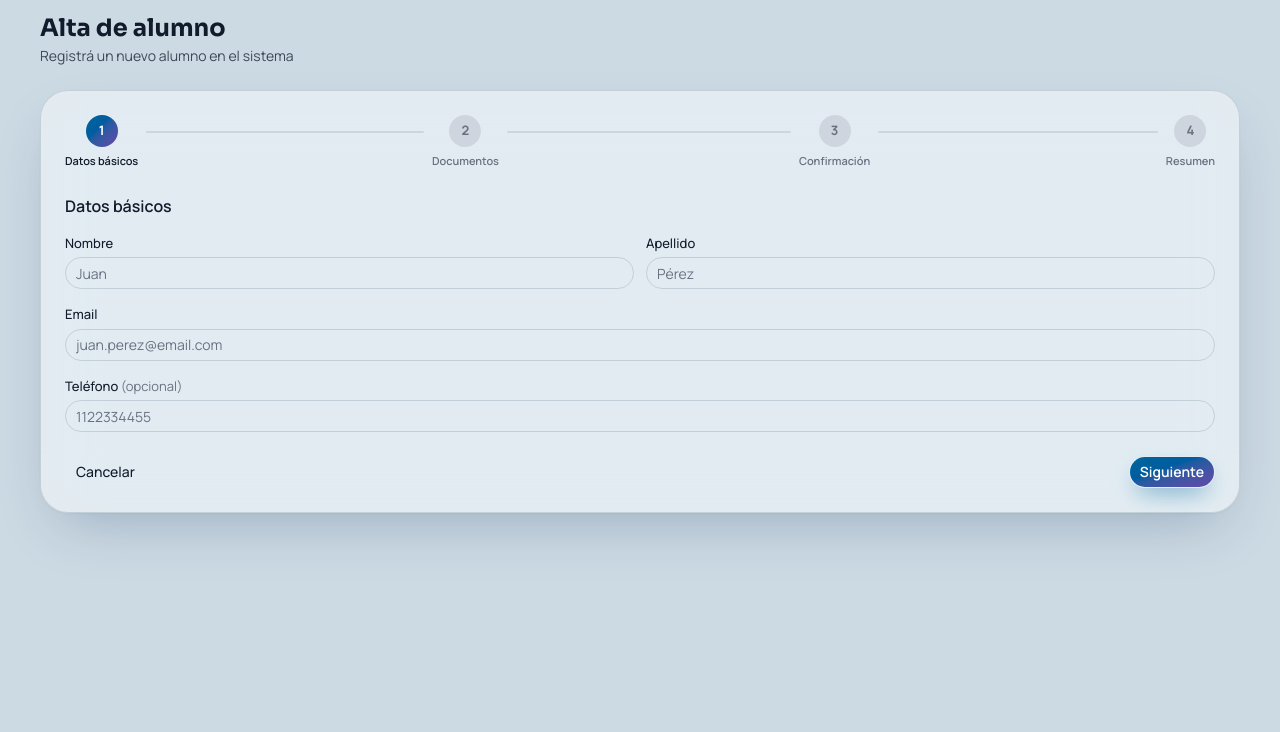
Test: NuevoAlumno › going back to the basic data and forward again does not create a second prospect
This screenshot has width=1280, height=732.
Type "Mostrador" into the field with placeholder "Juan".
click(350, 273); type("Mostrador")  # box [65,257,634,289]
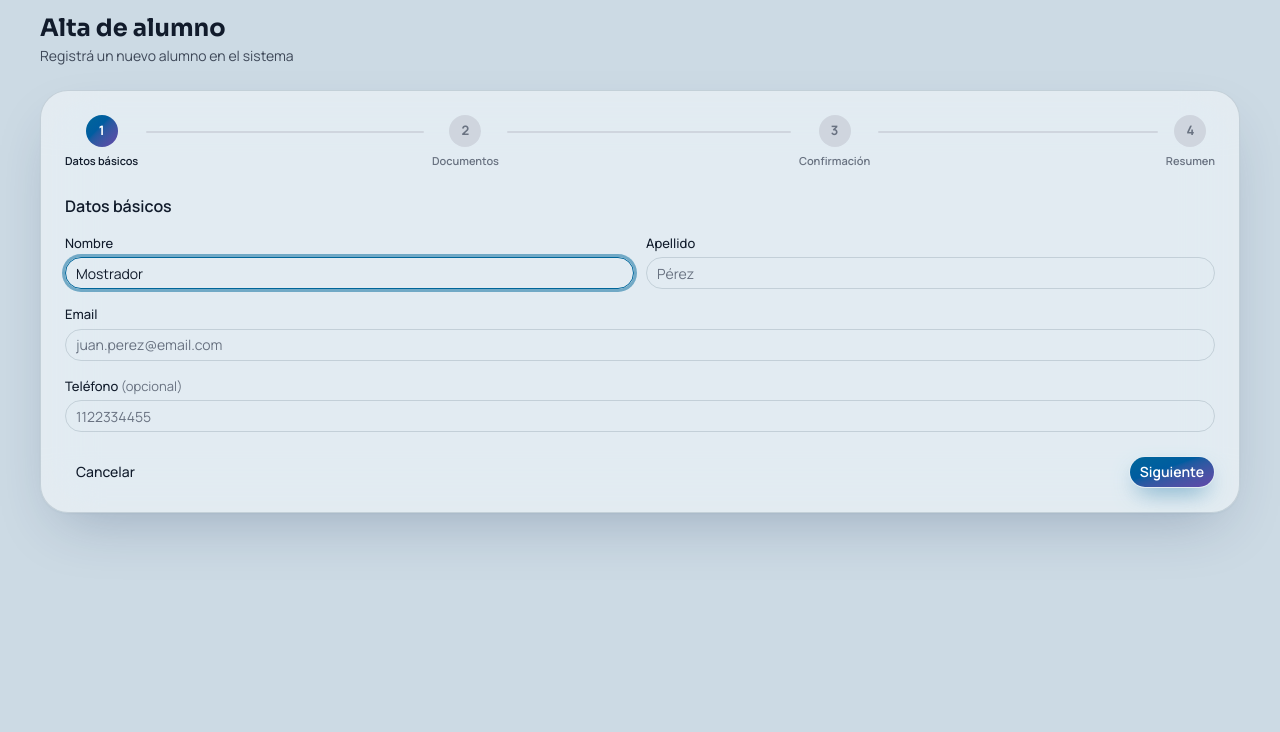
Type "Nueve" into the field with placeholder "Pérez".
click(930, 273); type("Nueve")  # box [646,257,1215,289]
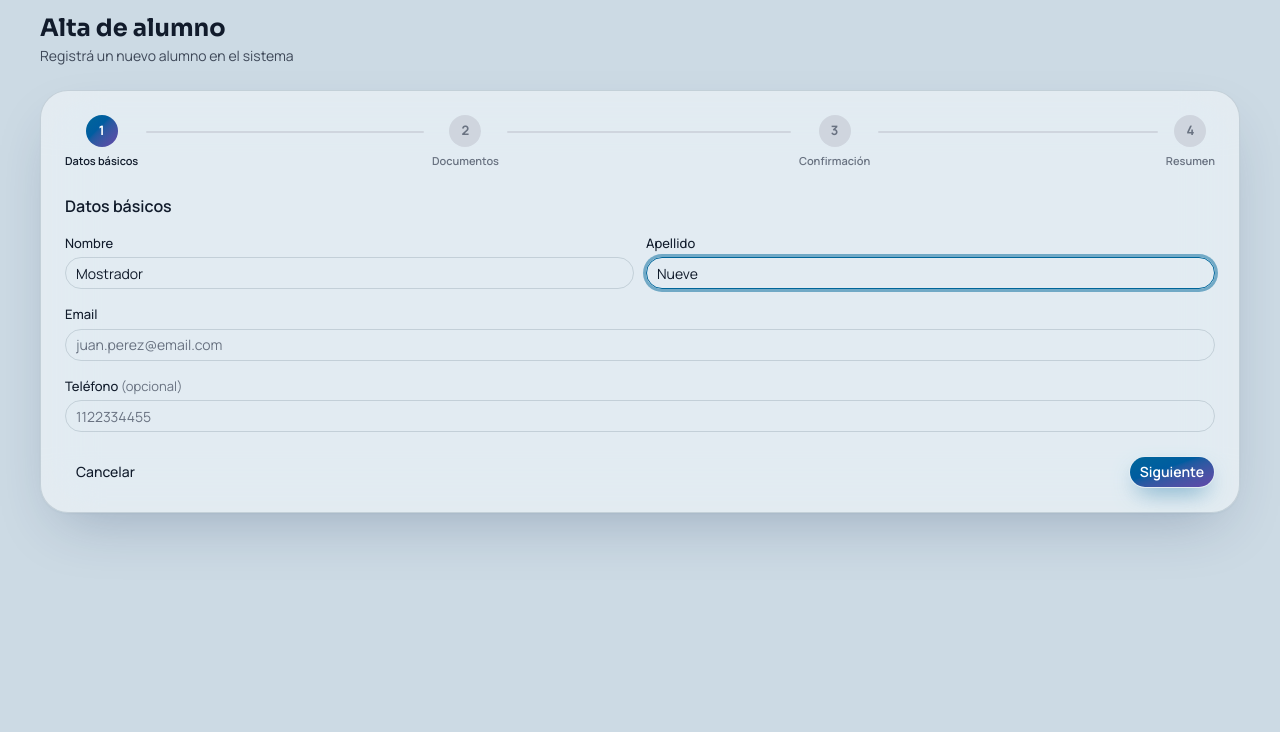
Type "qa9@demo.test" into the field with placeholder "juan.perez@email.com".
click(640, 344); type("qa9@demo.test")  # box [65,328,1215,360]
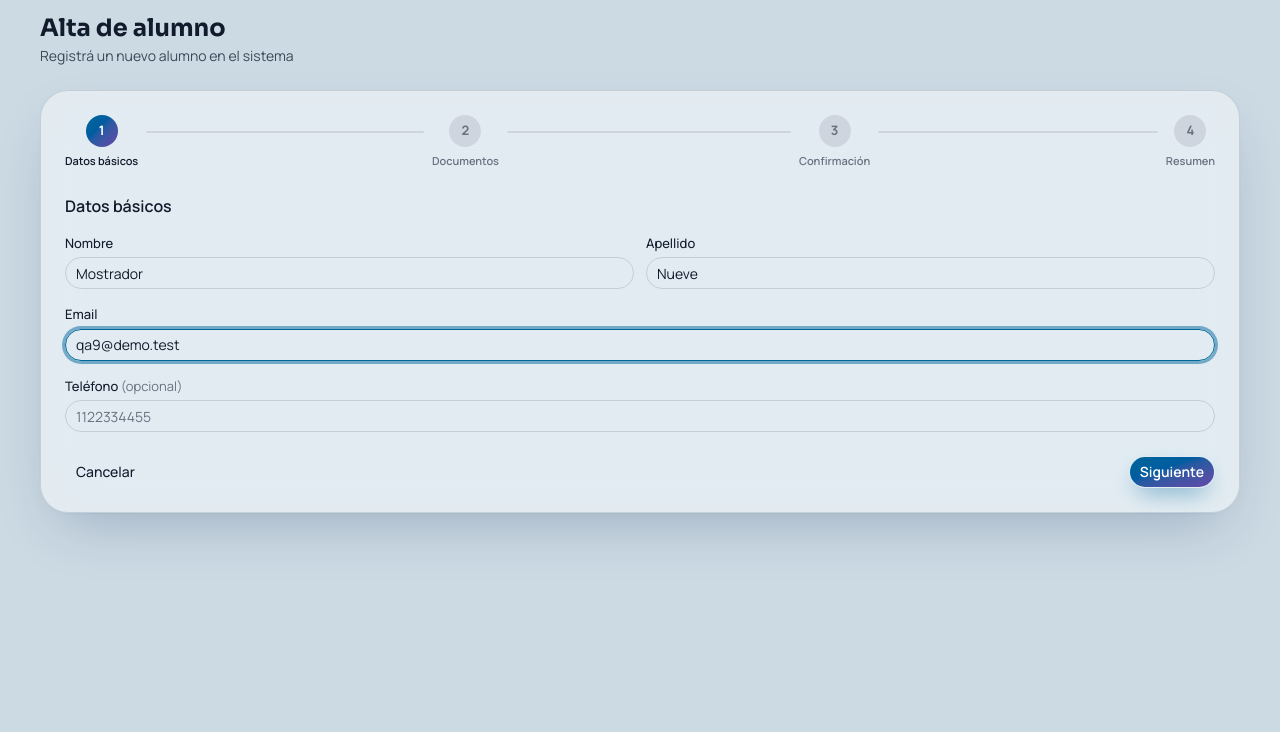
Click the button "Siguiente".
click(1172, 472)  # box [1129,456,1215,488]
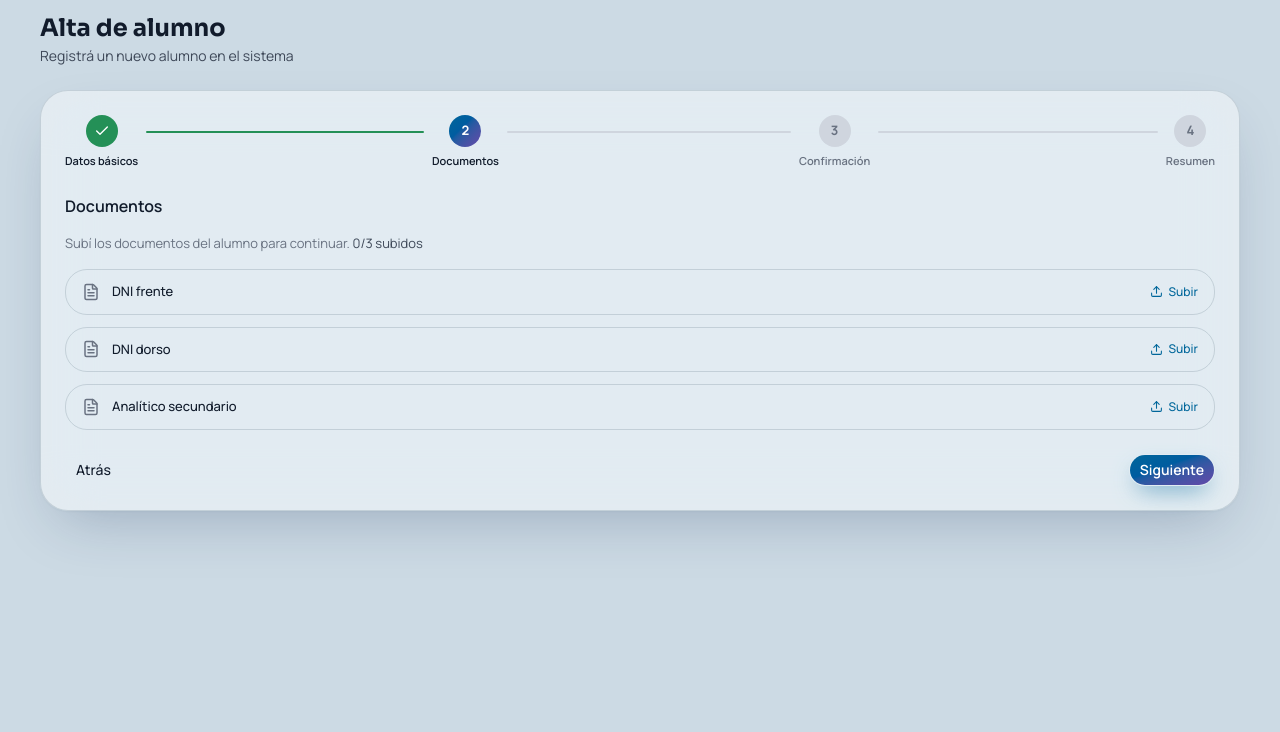
Now the heading "Documentos" is shown, box [65,194,162,216]
Click the button "Atrás".
click(93, 470)  # box [65,454,122,486]
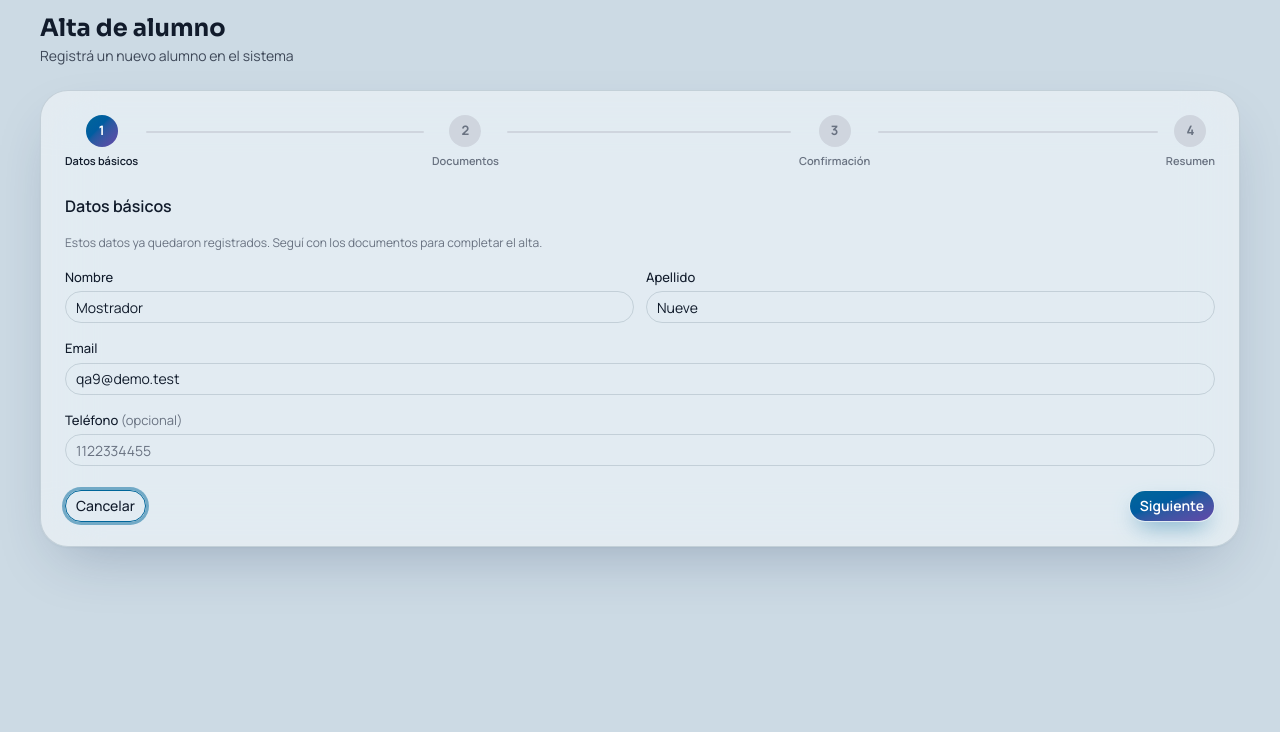
Now the field with placeholder "Juan" below "Nombre" has attribute readonly, box [65,291,634,323]
Click the button "Siguiente".
click(1172, 506)  # box [1129,490,1215,522]
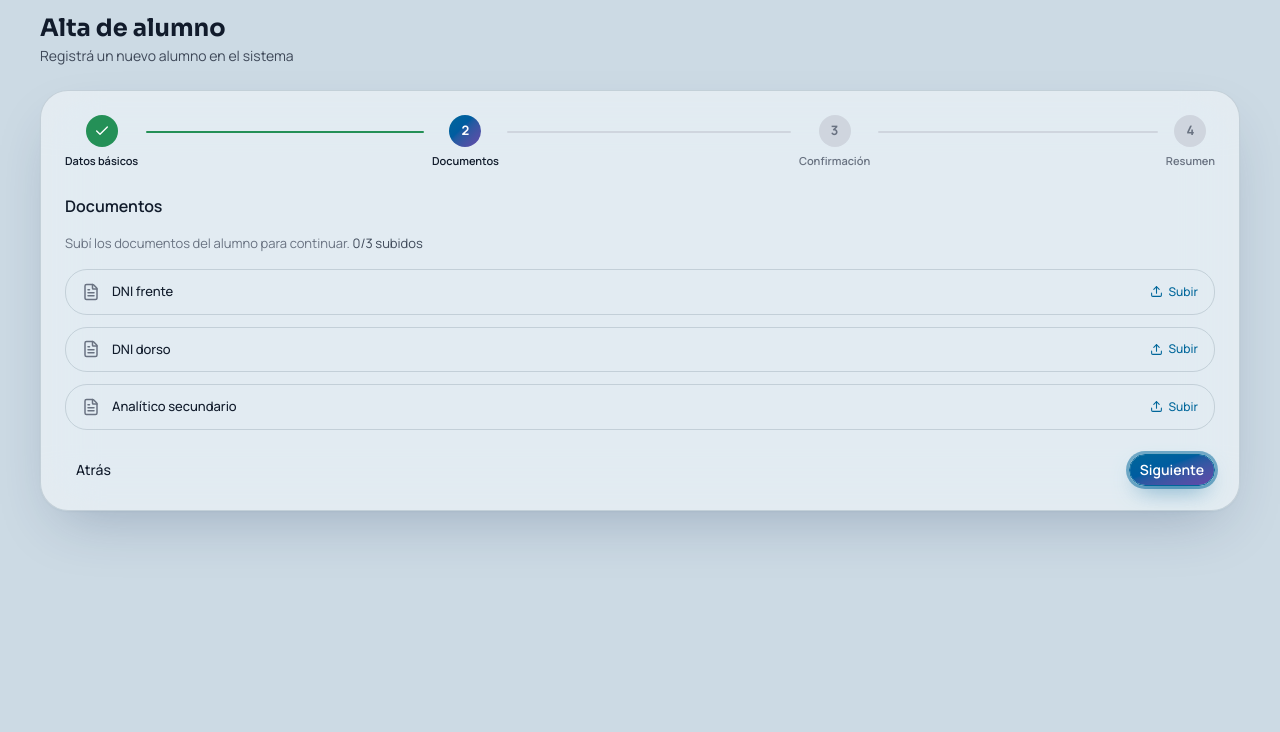
Now the heading "Documentos" is shown, box [65,194,162,216]
